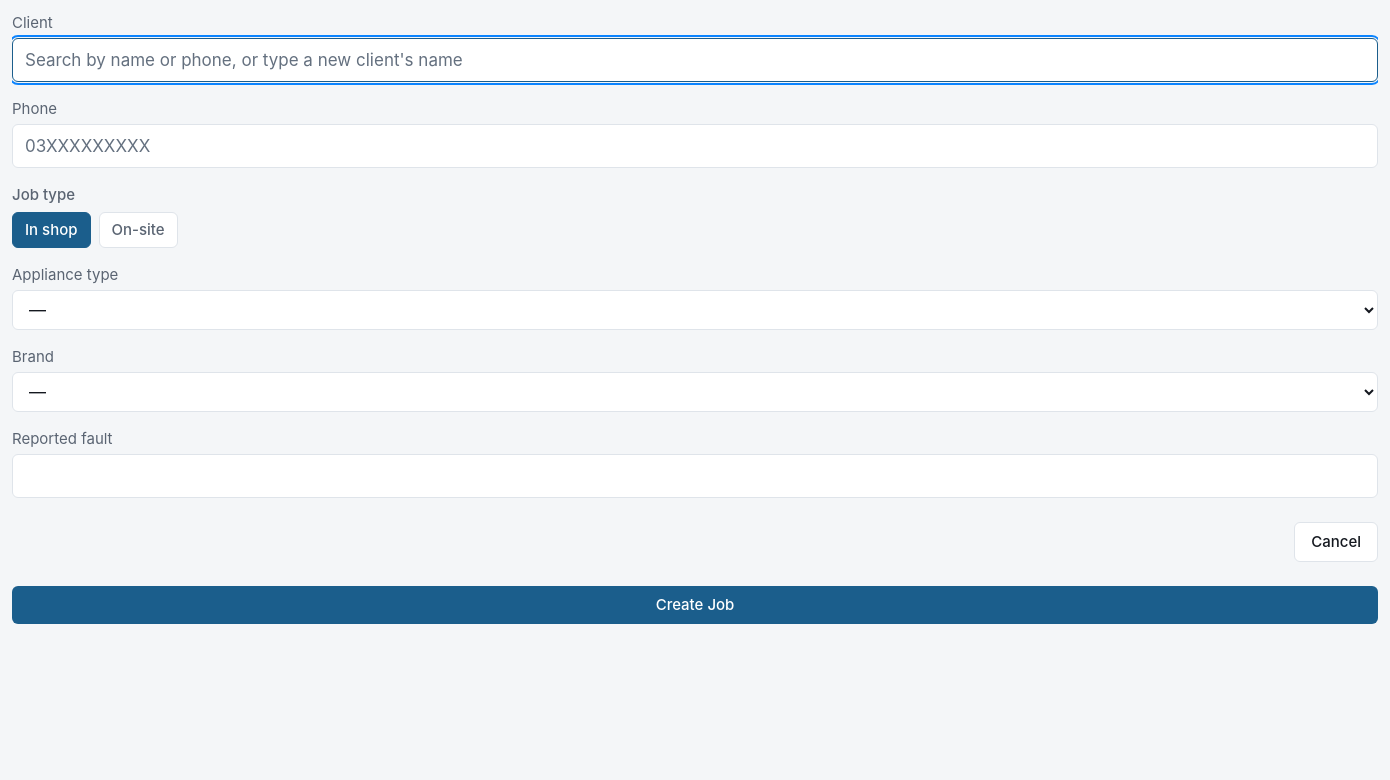
Test: JobCreateForm (P15-4 — job type + on-site address group) › selecting an existing client auto-fills Address/Area/Landmark when on-site is shown
The width and height of the screenshot is (1390, 780).
Type "Fazal" into the field labelled "Client" at (695, 60), box x1=12 y1=38 x2=1378 y2=82
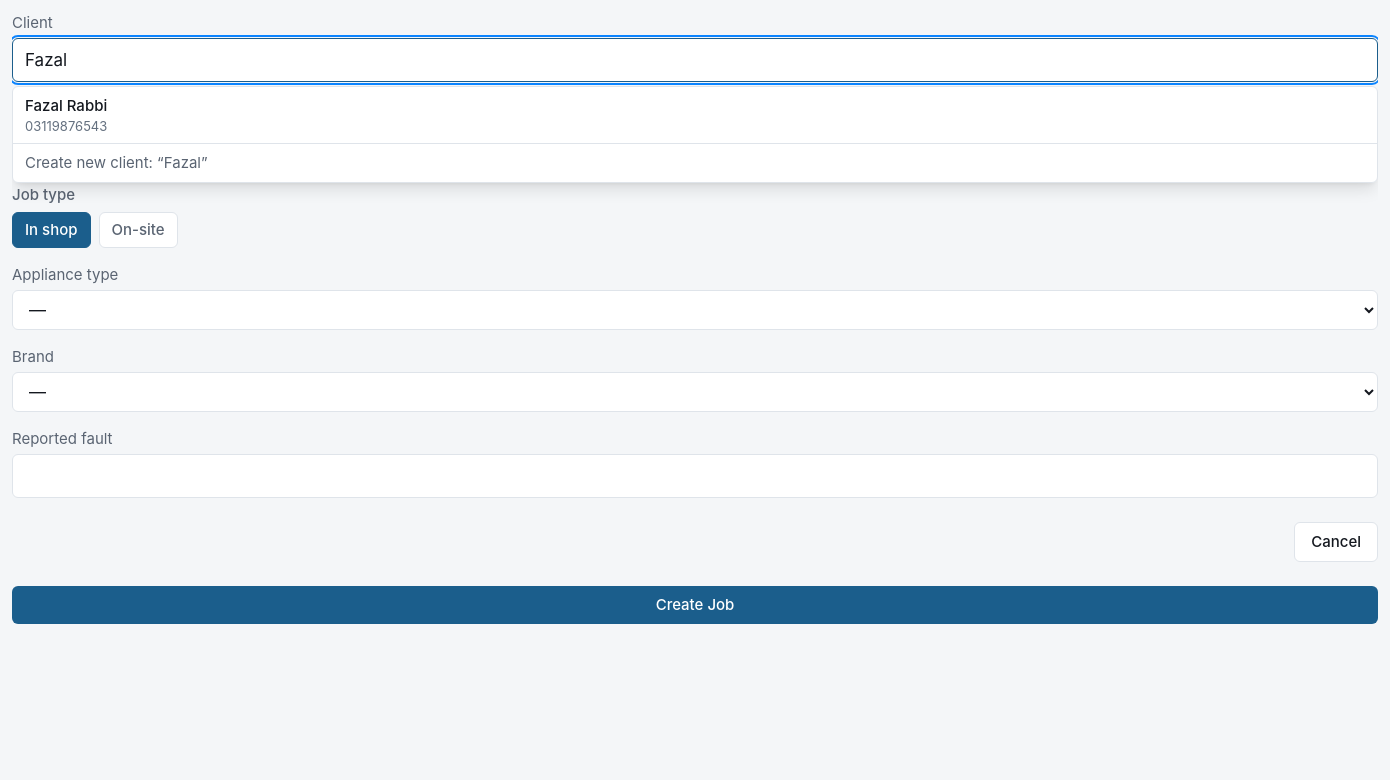
Press the mouse on the text "Fazal Rabbi" at (66, 106), box x1=25 y1=95 x2=107 y2=117
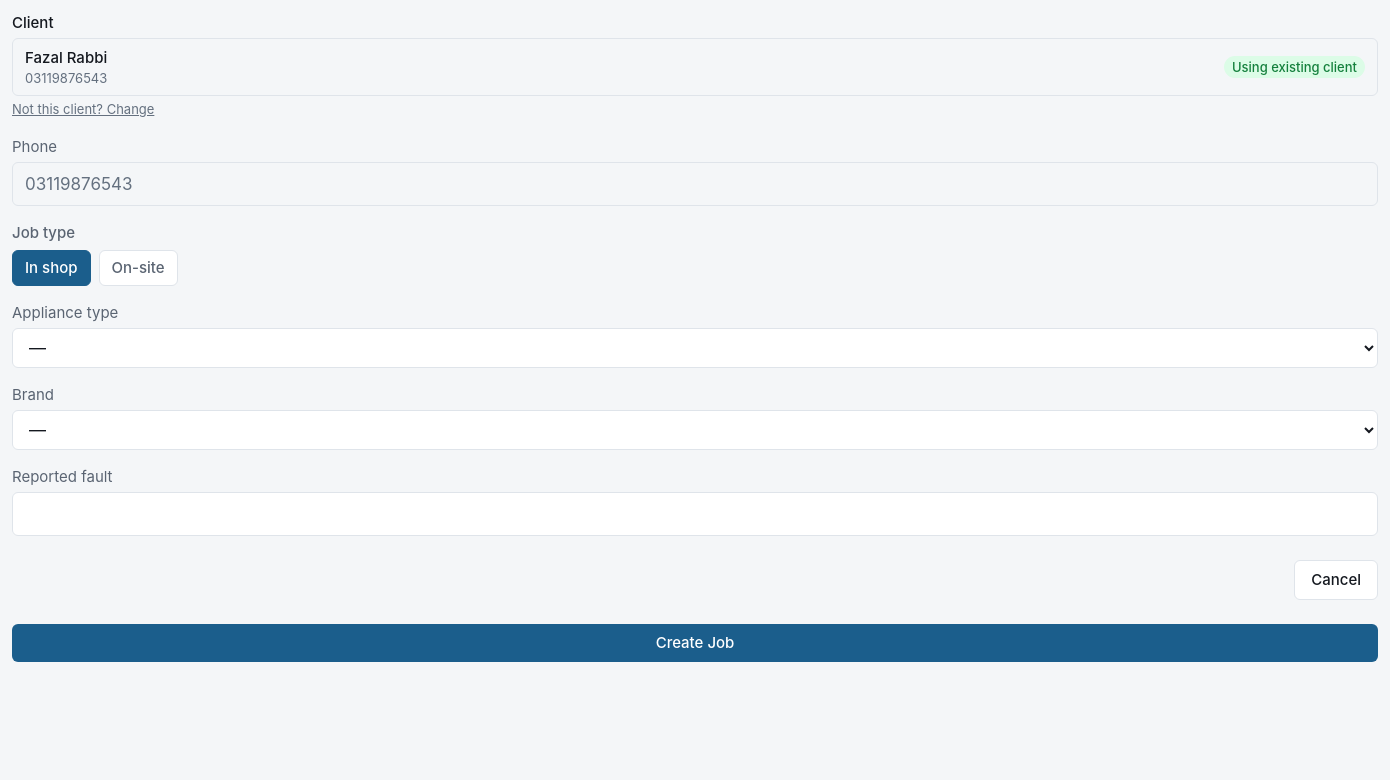
Click the button "On-site" at (138, 268), box x1=98 y1=250 x2=178 y2=286
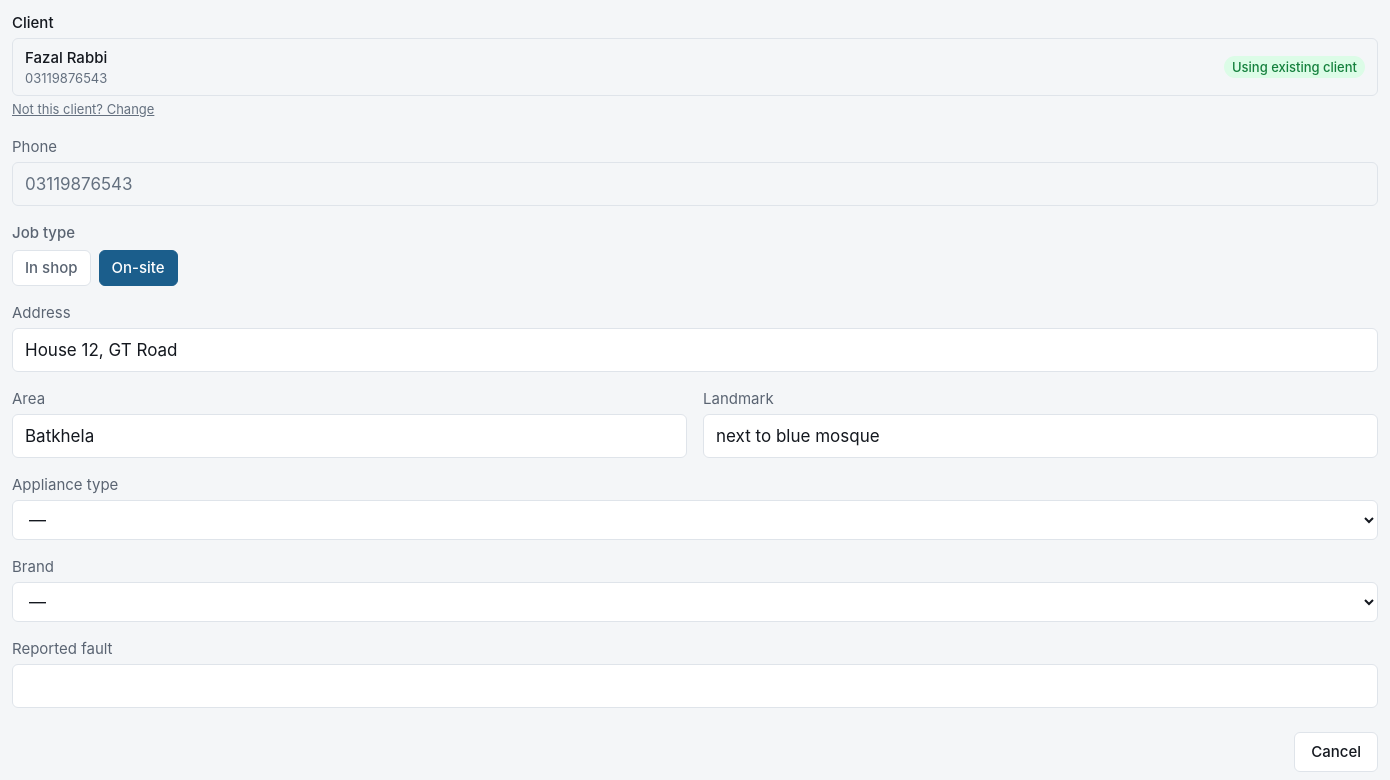
Now the field labelled "Address" holds "House 12, GT Road", box x1=12 y1=328 x2=1378 y2=372
Now the field labelled "Area" holds "Batkhela", box x1=12 y1=414 x2=687 y2=458
Now the field labelled "Landmark" holds "next to blue mosque", box x1=703 y1=414 x2=1378 y2=458
